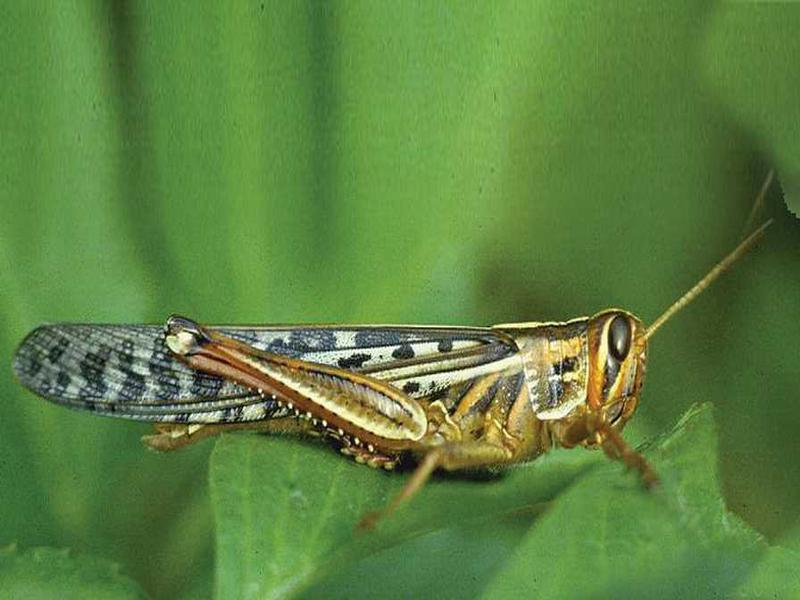Grasshopper: (7, 288, 673, 529)
